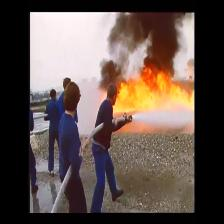fire: (123, 81, 191, 109)
smoke: (123, 11, 178, 41), (148, 43, 172, 70), (102, 63, 121, 87)
